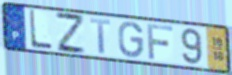9: (178, 27, 204, 67)
F: (145, 22, 175, 61)
G: (117, 21, 145, 60)
L: (28, 8, 54, 51)
T: (88, 16, 112, 56)
Z: (54, 10, 88, 56)
